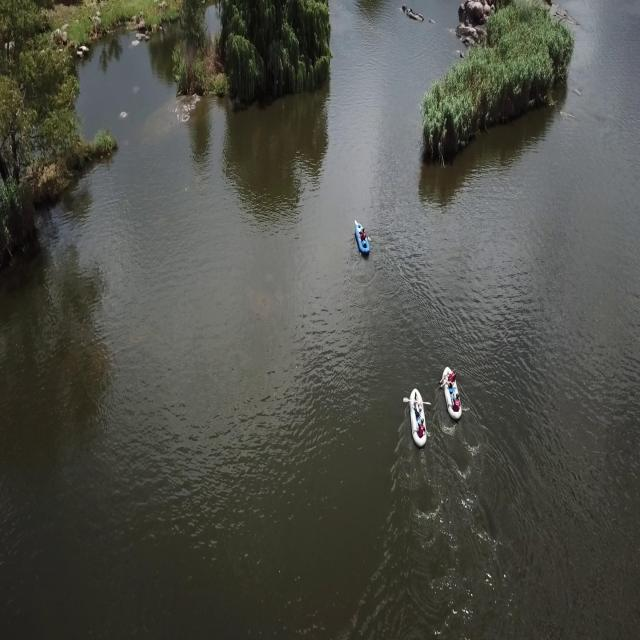kayak: (403, 387, 432, 448), (438, 362, 464, 422), (352, 216, 372, 265)
